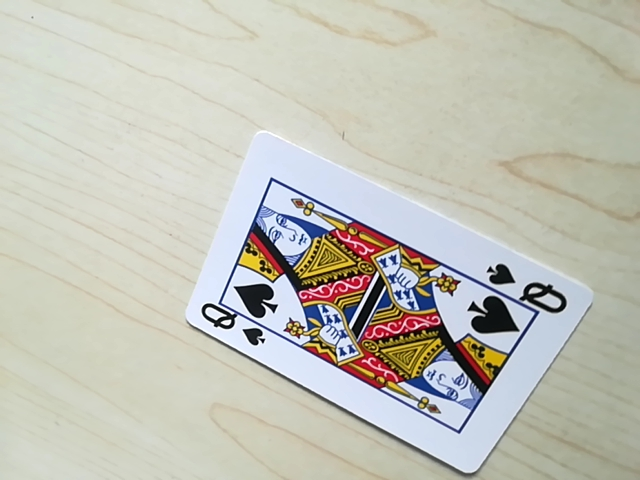ht q: (479, 264, 570, 307), (194, 302, 271, 347)
